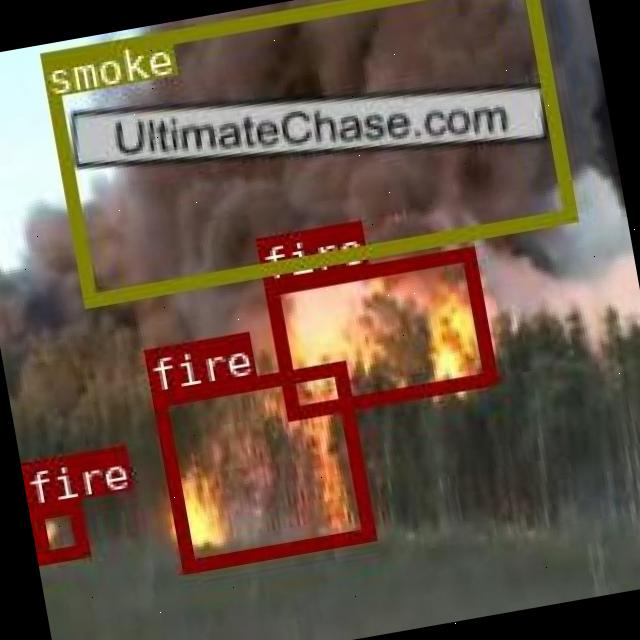fire: (148, 359, 372, 571), (260, 243, 495, 418), (28, 496, 88, 560)
smoke: (38, 0, 573, 305)
